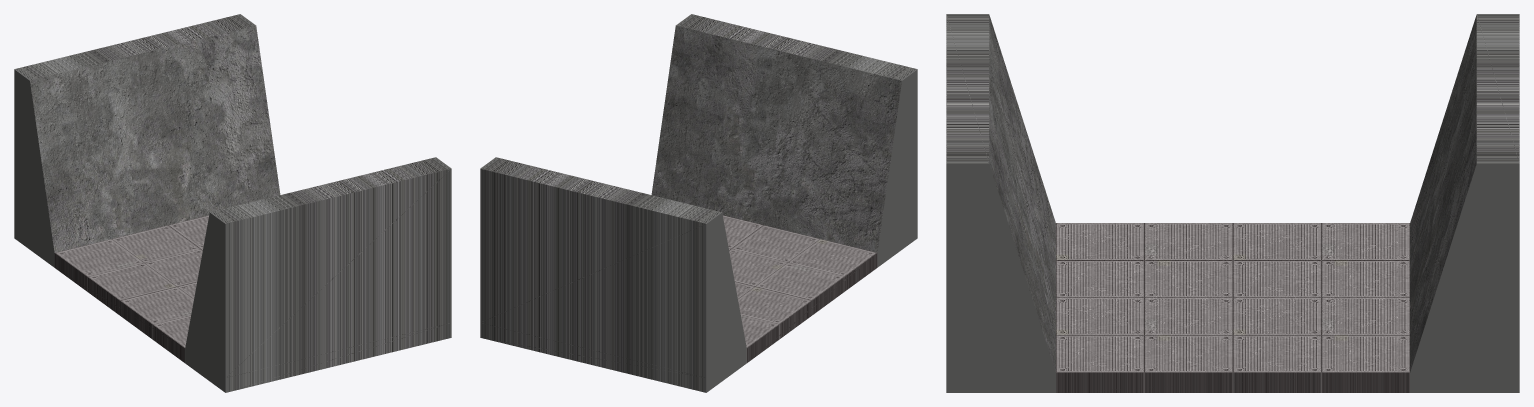
The model's file is Сorridor I.fbx.
The picture shows the model from 3 angles, left to right: view 1: azimuth 30°, elevation 25°; view 2: azimuth 150°, elevation 25°; view 3: azimuth 270°, elevation 25°; orthographic projection. The views are drawn at different scales.
Parts seen in each view (by area): view 1: Сorridor I; view 2: Сorridor I; view 3: Сorridor I.
Boxes of the visible parts, x1,y1,x2,y2 form: Сorridor I: (14, 14, 451, 392); Сorridor I: (480, 14, 917, 392); Сorridor I: (946, 14, 1519, 392).
Bounding box in the file's own units: 443 × 317 × 717.
